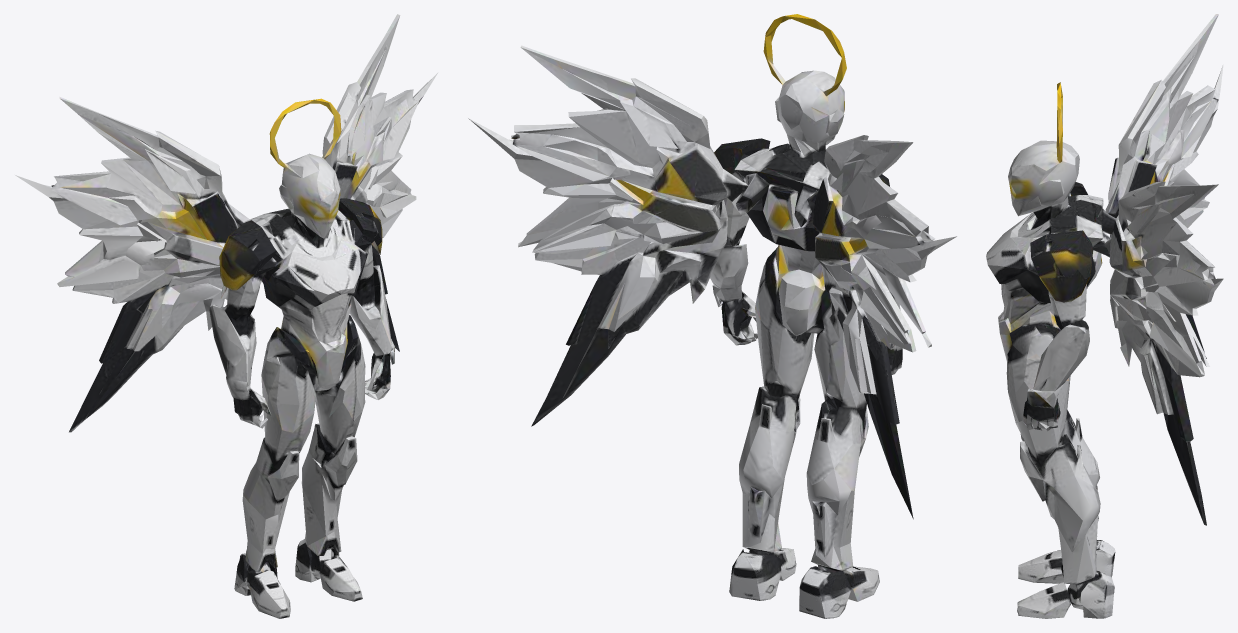
File: angel.glb
The picture shows the model from 3 angles, left to right: view 1: azimuth 30°, elevation 25°; view 2: azimuth 150°, elevation 25°; view 3: azimuth 270°, elevation 25°; orthographic projection. The views are drawn at different scales.
Bounding box in the file's own units: 1.71 × 1.9 × 0.8028.
1 material, 1 textured.
